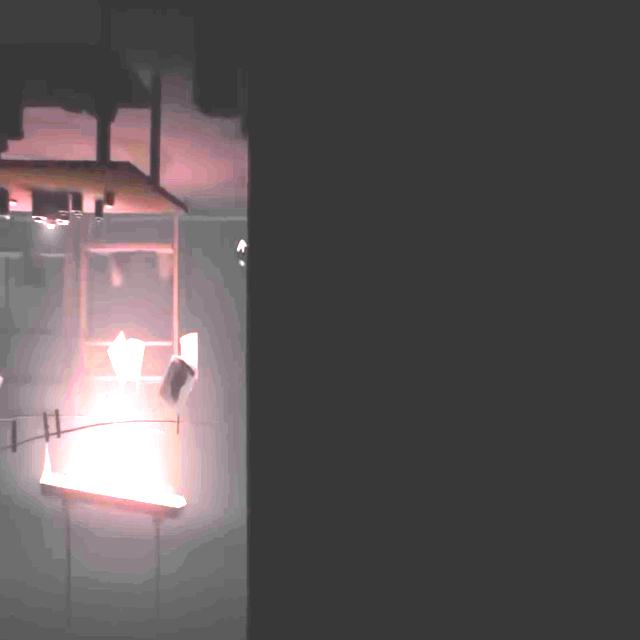boy: (236, 239, 248, 266)
